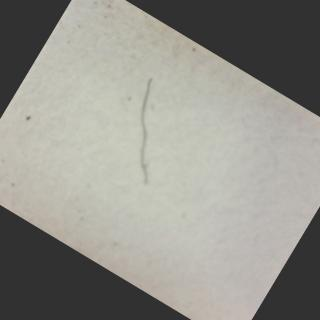Microplastic: (78, 62, 205, 196)
